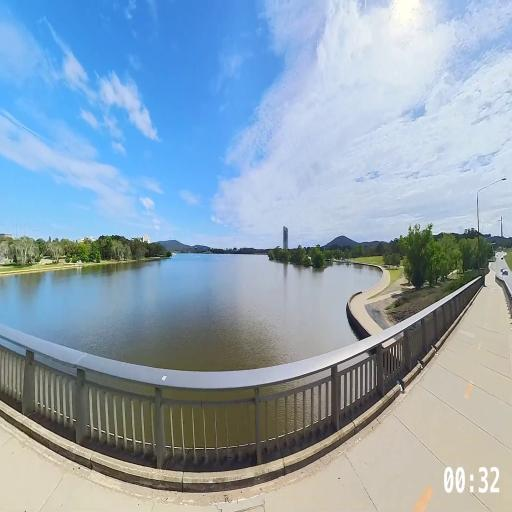Street_Light: (473, 170, 511, 245)
